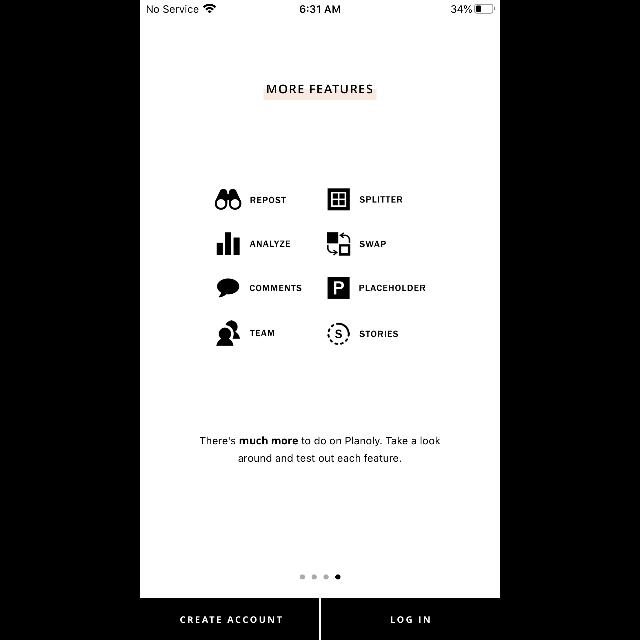icon: (216, 320, 240, 346), (215, 188, 241, 210), (217, 232, 240, 255), (328, 232, 350, 255), (328, 188, 350, 210), (328, 277, 350, 299), (328, 323, 350, 345), (217, 278, 239, 298)
pageindicator: (300, 575, 340, 579)
text: (200, 436, 440, 462), (268, 85, 372, 94), (359, 285, 425, 291), (250, 285, 302, 291), (360, 196, 402, 202), (250, 241, 290, 247), (360, 331, 398, 337), (250, 197, 286, 203), (360, 241, 386, 247), (250, 330, 274, 336)
textbutton: (321, 598, 499, 640), (141, 598, 319, 640)
uppertaskbar: (140, 0, 500, 14)
